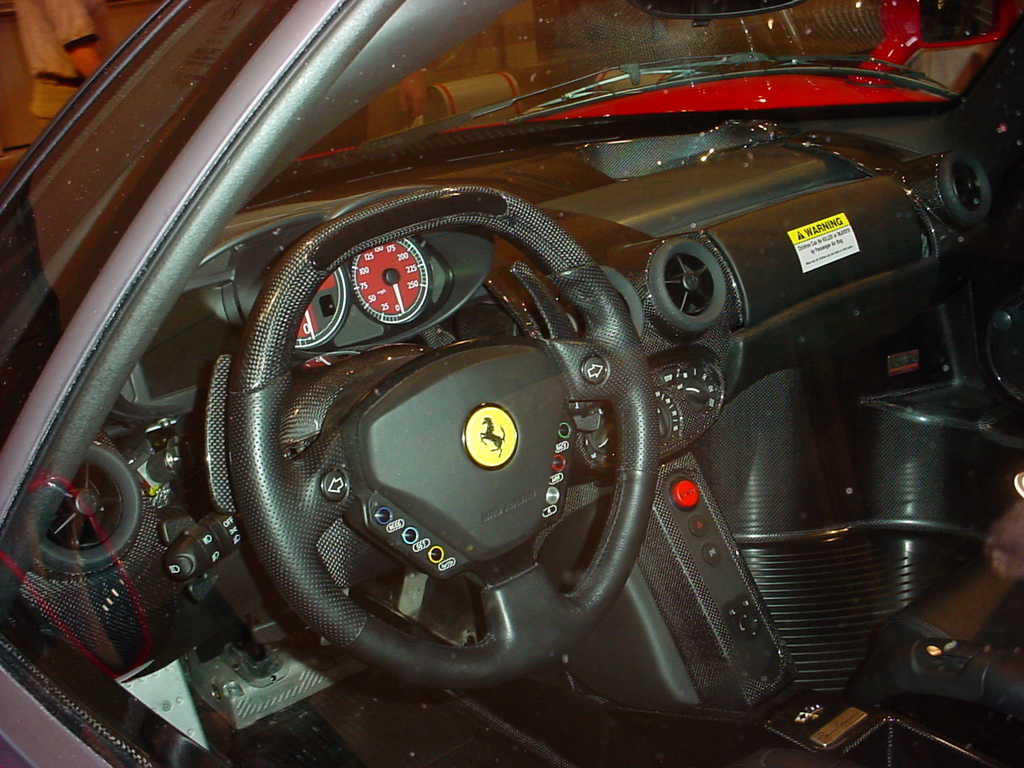person: (8, 0, 113, 129)
